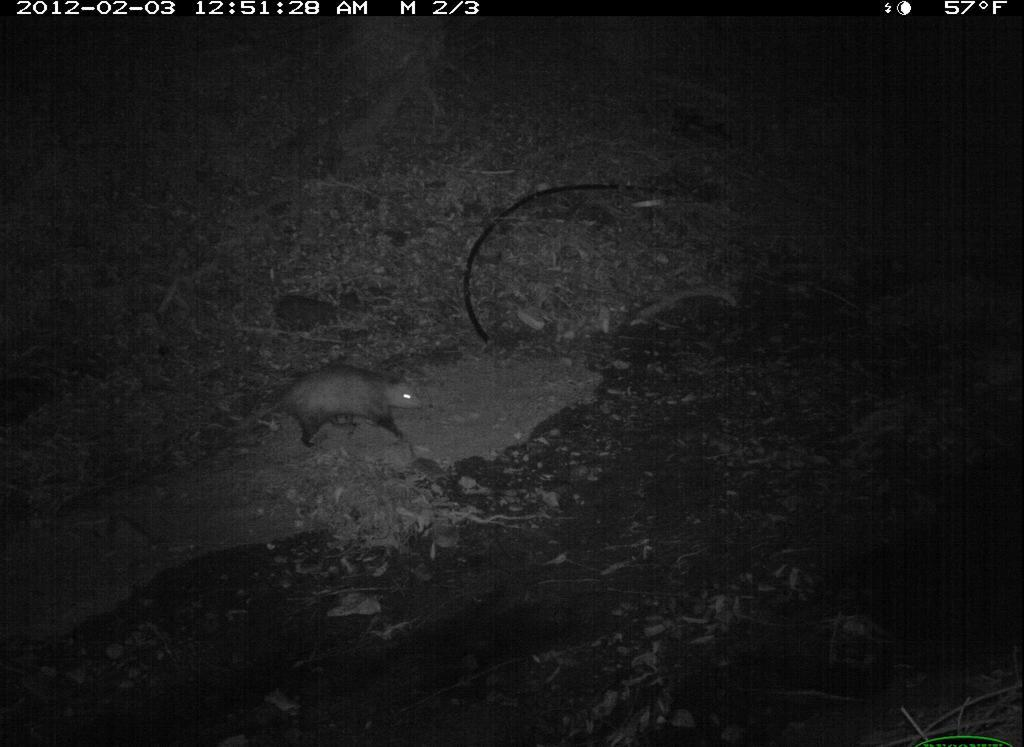opossum: (223, 361, 438, 457)
